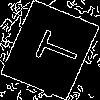T: (25, 25, 83, 71)
